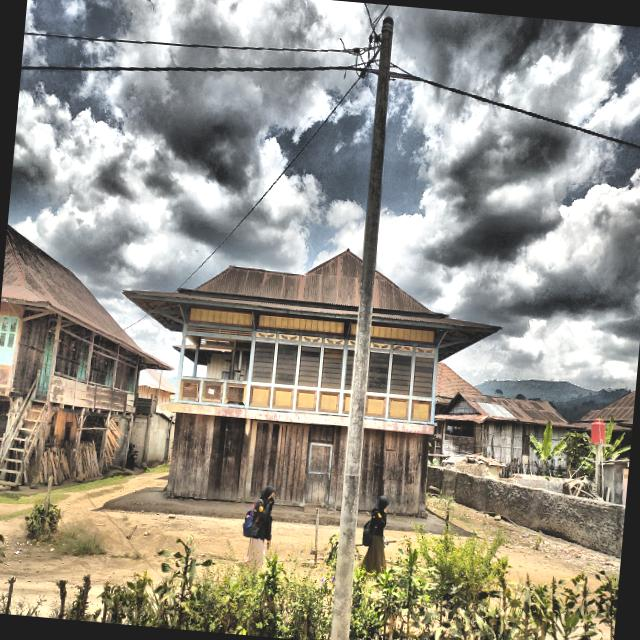column: (31, 405, 50, 484), (166, 412, 182, 496), (237, 418, 252, 501), (328, 425, 341, 510), (70, 410, 84, 479), (418, 433, 429, 516), (98, 413, 110, 472), (5, 396, 22, 435), (121, 415, 133, 468), (141, 413, 151, 462)
door: (305, 442, 333, 504), (38, 331, 55, 394)
ornamen: (224, 382, 247, 405), (178, 378, 200, 401), (201, 380, 223, 403), (249, 384, 271, 407), (295, 388, 317, 411), (272, 387, 294, 409), (317, 391, 339, 413), (341, 393, 350, 414)
roof: (122, 247, 502, 363), (0, 223, 174, 371), (434, 392, 587, 429), (572, 391, 635, 431)
stair: (0, 369, 45, 487), (435, 362, 484, 404)
wall: (178, 306, 435, 422), (173, 412, 423, 515), (12, 313, 141, 394), (481, 420, 546, 465), (0, 302, 19, 384)
window: (251, 340, 275, 383), (274, 343, 298, 385), (297, 345, 321, 386), (389, 353, 412, 395), (366, 351, 389, 393), (320, 347, 343, 389), (0, 315, 19, 365), (412, 355, 434, 397), (77, 343, 89, 380), (344, 348, 354, 389), (104, 357, 114, 386), (127, 367, 135, 391), (522, 435, 529, 455)
